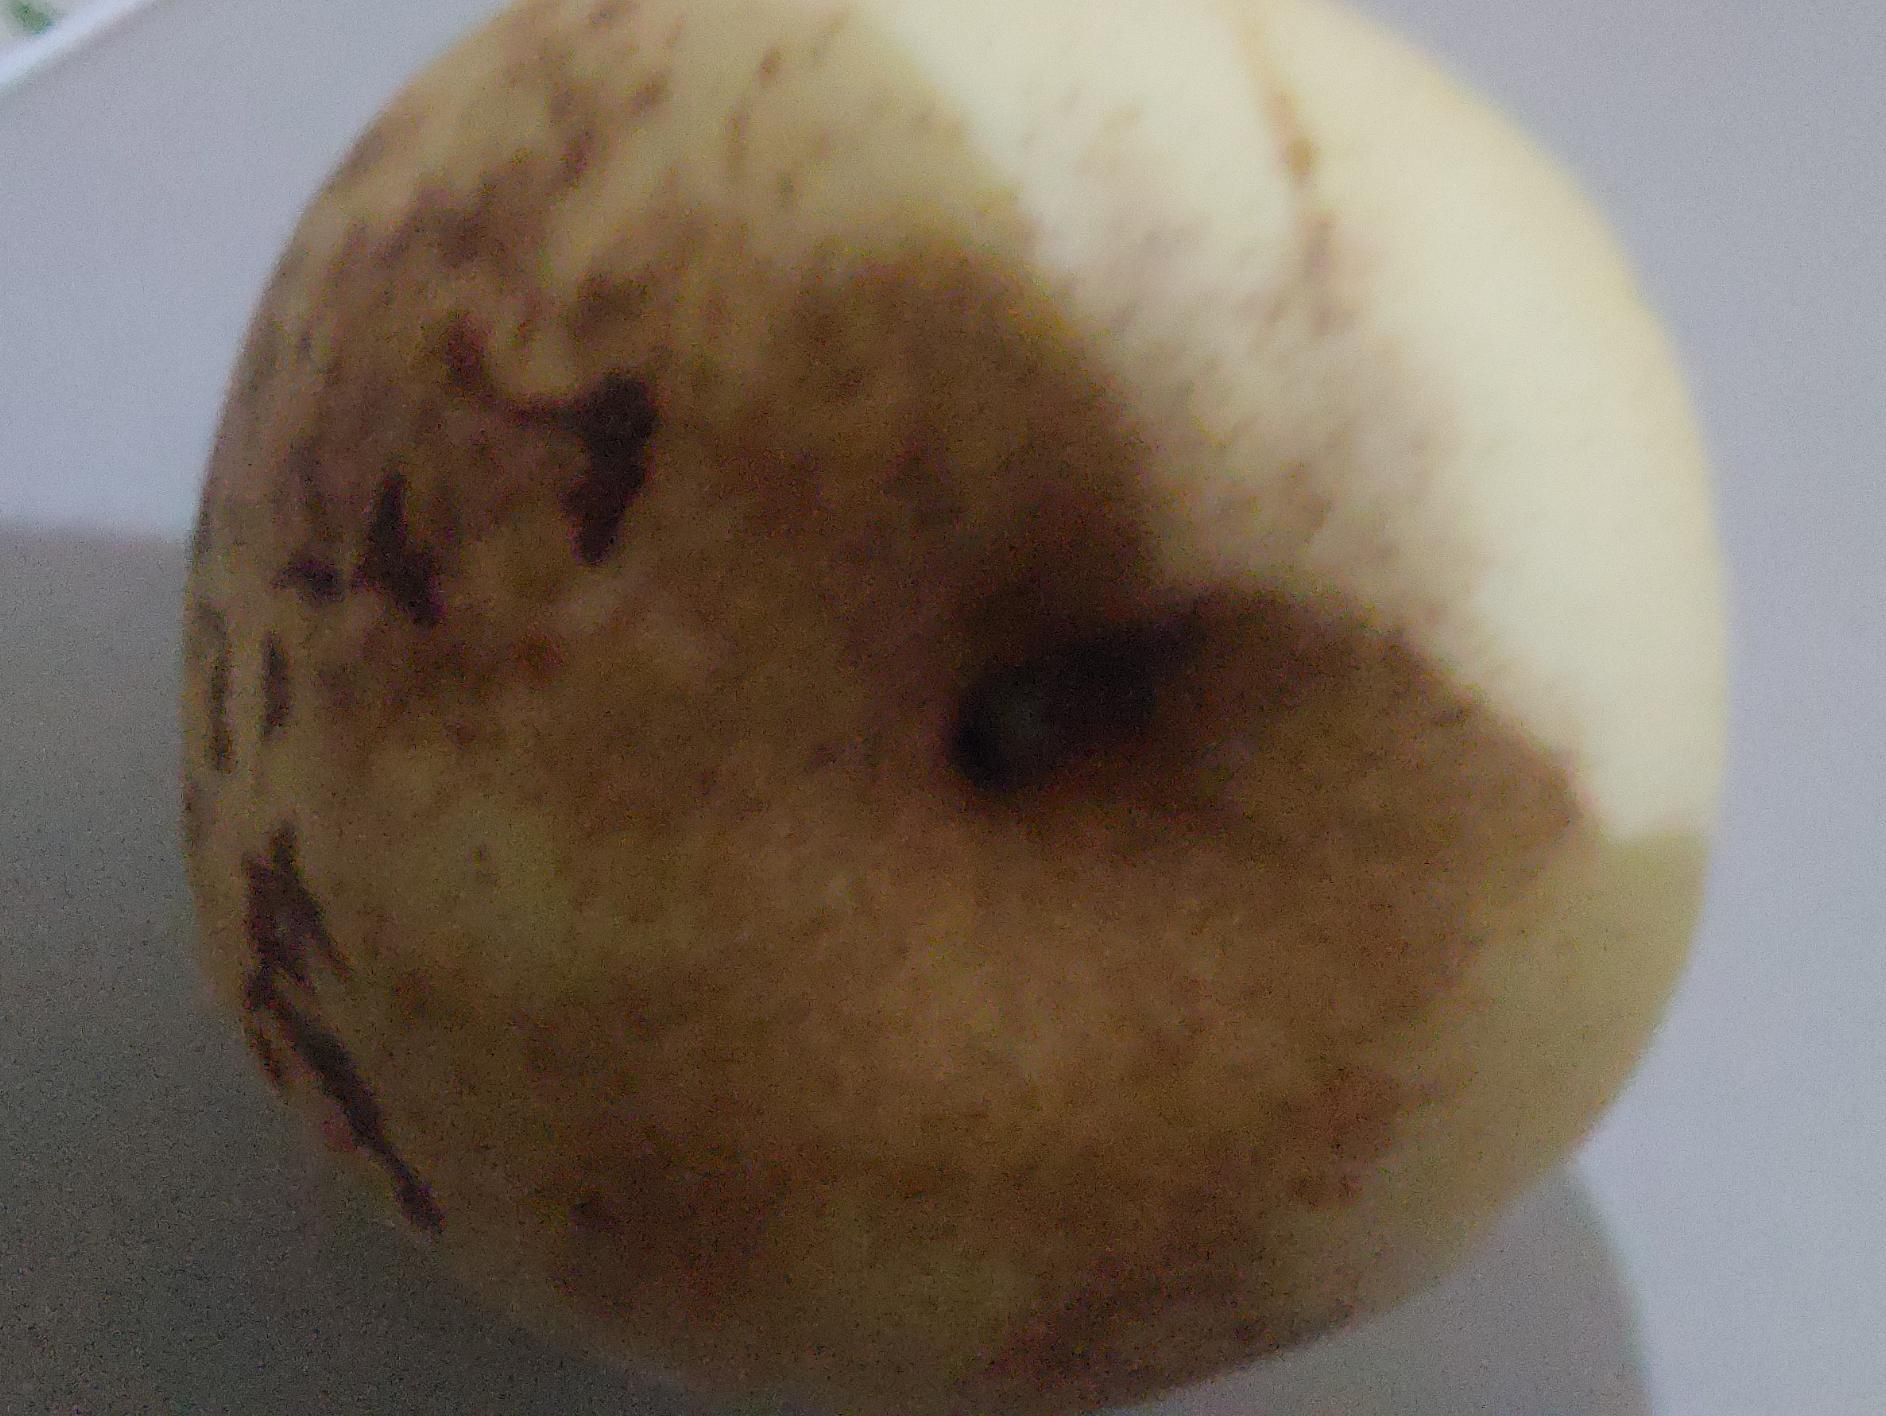Bad Pear: (155, 0, 1766, 1416)
